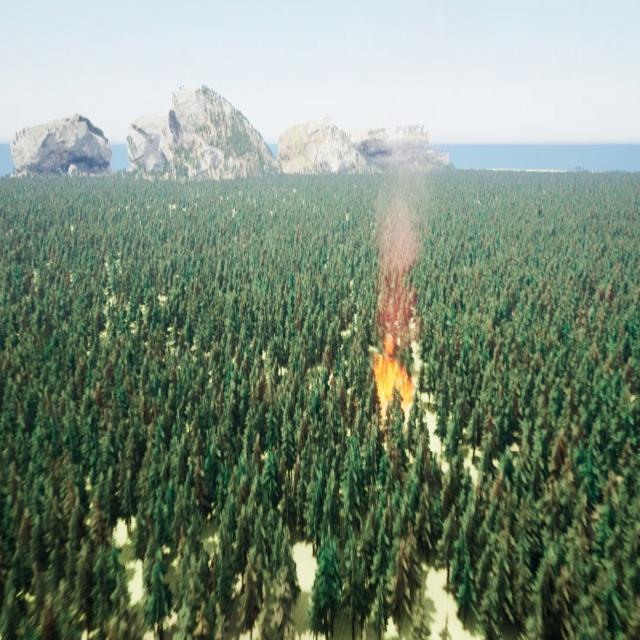fire: (373, 346, 413, 403)
smoke: (374, 166, 422, 345)
